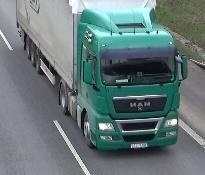truck: (13, 1, 187, 157)
